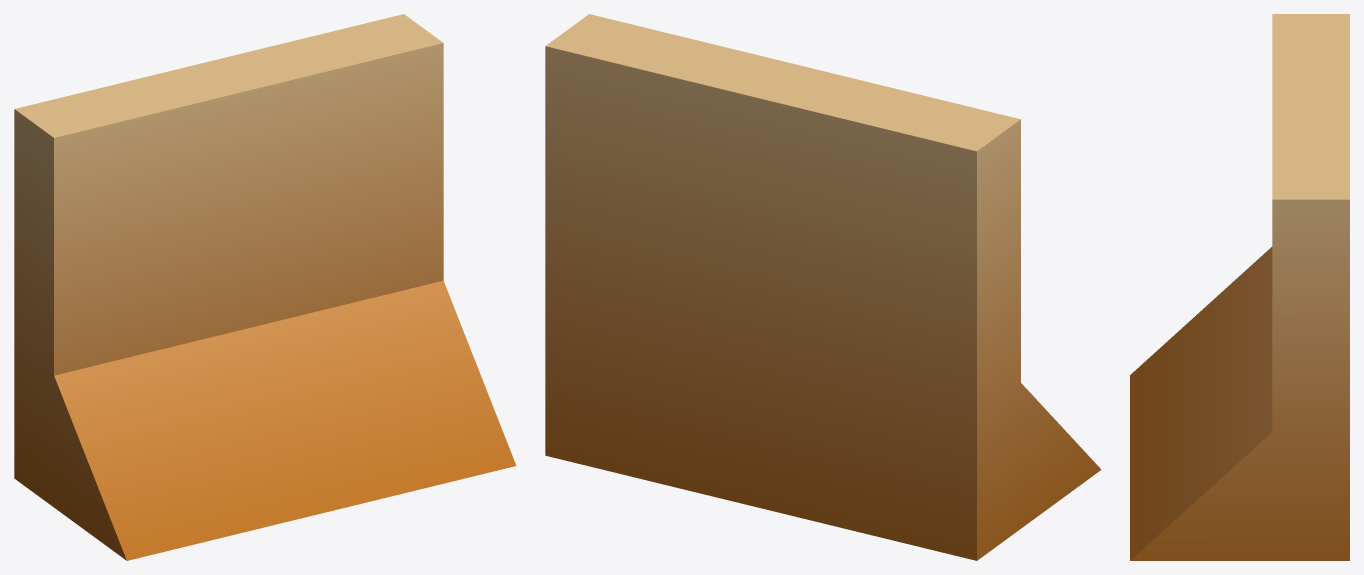
The model's file is base_no_corner.fbx.
3 renders of one model, left to right at view 1: azimuth 30°, elevation 25°; view 2: azimuth 150°, elevation 25°; view 3: azimuth 270°, elevation 25°, orthographic. The views are drawn at different scales.
Parts seen in each view (by area): view 1: base.no.corner; view 2: base.no.corner; view 3: base.no.corner.
Part boxes in pixels (left/top/right/bottom): base.no.corner: left=14, top=14, right=516, bottom=560; base.no.corner: left=545, top=14, right=1101, bottom=560; base.no.corner: left=1130, top=14, right=1349, bottom=560.
Bounding box in the file's own units: 30 × 27.2 × 15.01.
